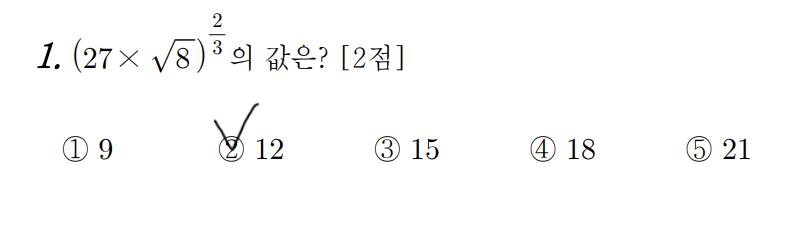1: (212, 101, 257, 163)
paper: (59, 132, 92, 166), (214, 132, 247, 166), (371, 132, 404, 166), (525, 132, 558, 166), (682, 133, 715, 167)
